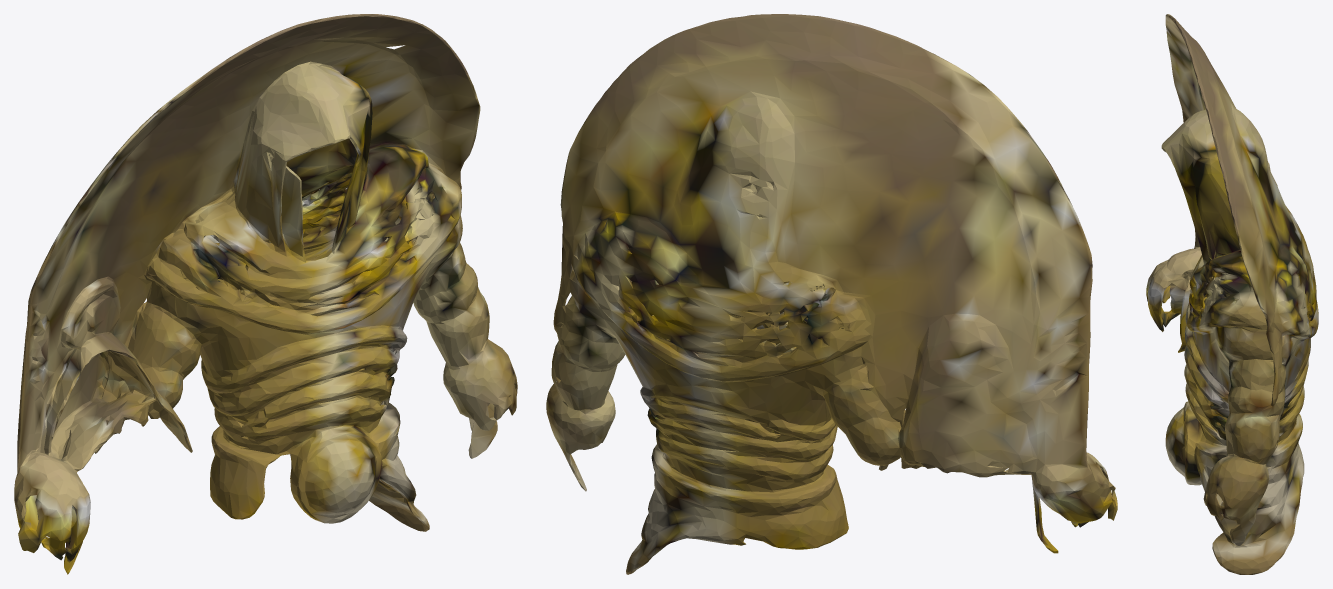
Rendered from waterElemental.glb.
The picture shows the model from 3 angles, left to right: view 1: azimuth 30°, elevation 25°; view 2: azimuth 150°, elevation 25°; view 3: azimuth 270°, elevation 25°; orthographic projection. The views are drawn at different scales.
Parts seen in each view (by area): view 1: world; view 2: world; view 3: world.
Part boxes in pixels (x1,y1,x2,y2): world: [14, 14, 517, 574]; world: [546, 14, 1117, 574]; world: [1146, 14, 1318, 574].
Size of the model in its own units: 0.9846 by 1 by 0.3316.
